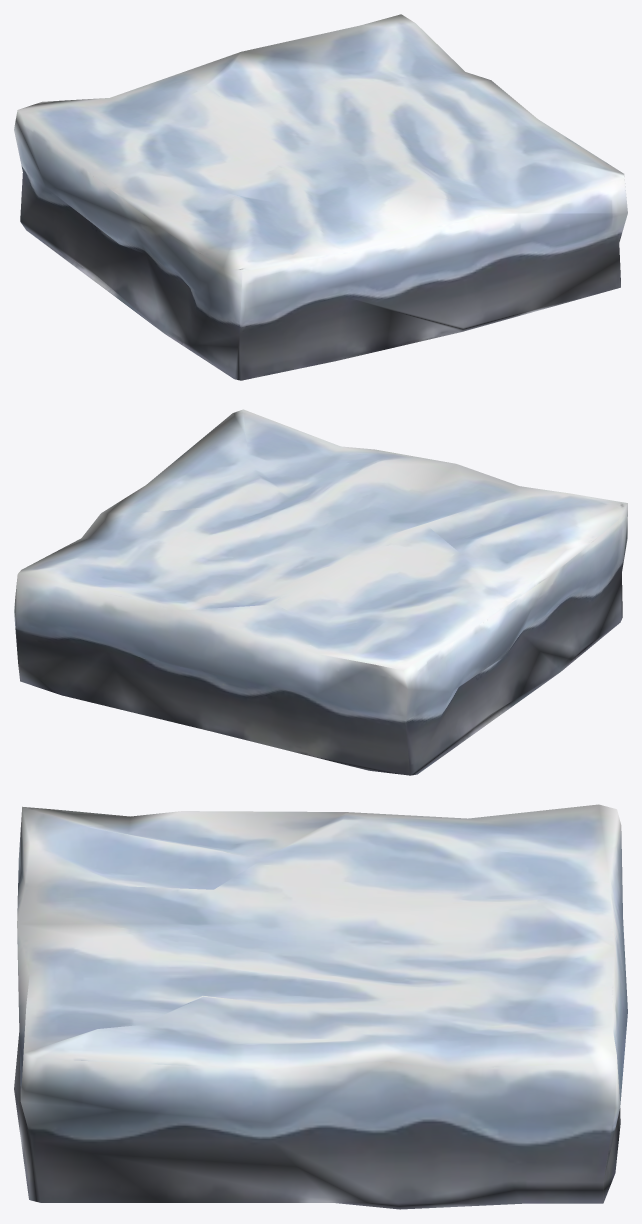
The model's file is gnd_snow.glb.
3 views of the same model, one above another, from view 1: azimuth 30°, elevation 25°; view 2: azimuth 150°, elevation 25°; view 3: azimuth 270°, elevation 25° (orthographic). The views are drawn at different scales.
Parts seen in each view (by area): view 1: Mesh0; view 2: Mesh0; view 3: Mesh0.
Part boxes in pixels (x1,y1,x2,y2): Mesh0: [14, 14, 627, 380]; Mesh0: [14, 409, 627, 775]; Mesh0: [14, 804, 627, 1209].
Bounding box in the file's own units: 1.91 × 0.5354 × 1.9.
Materials: 1 (1 with a texture image).
